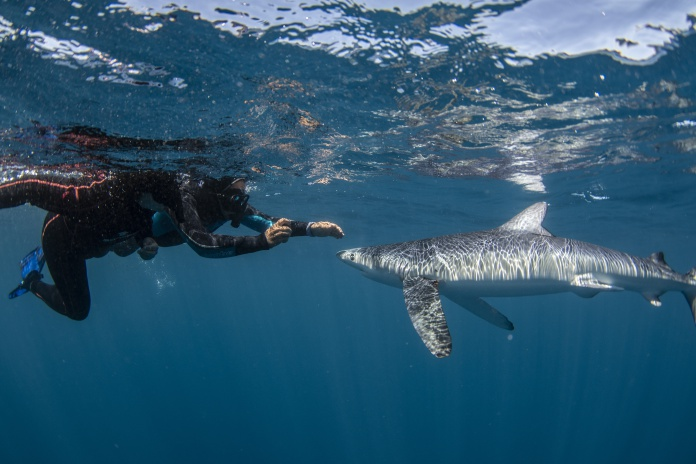Azul: (336, 187, 696, 366)
